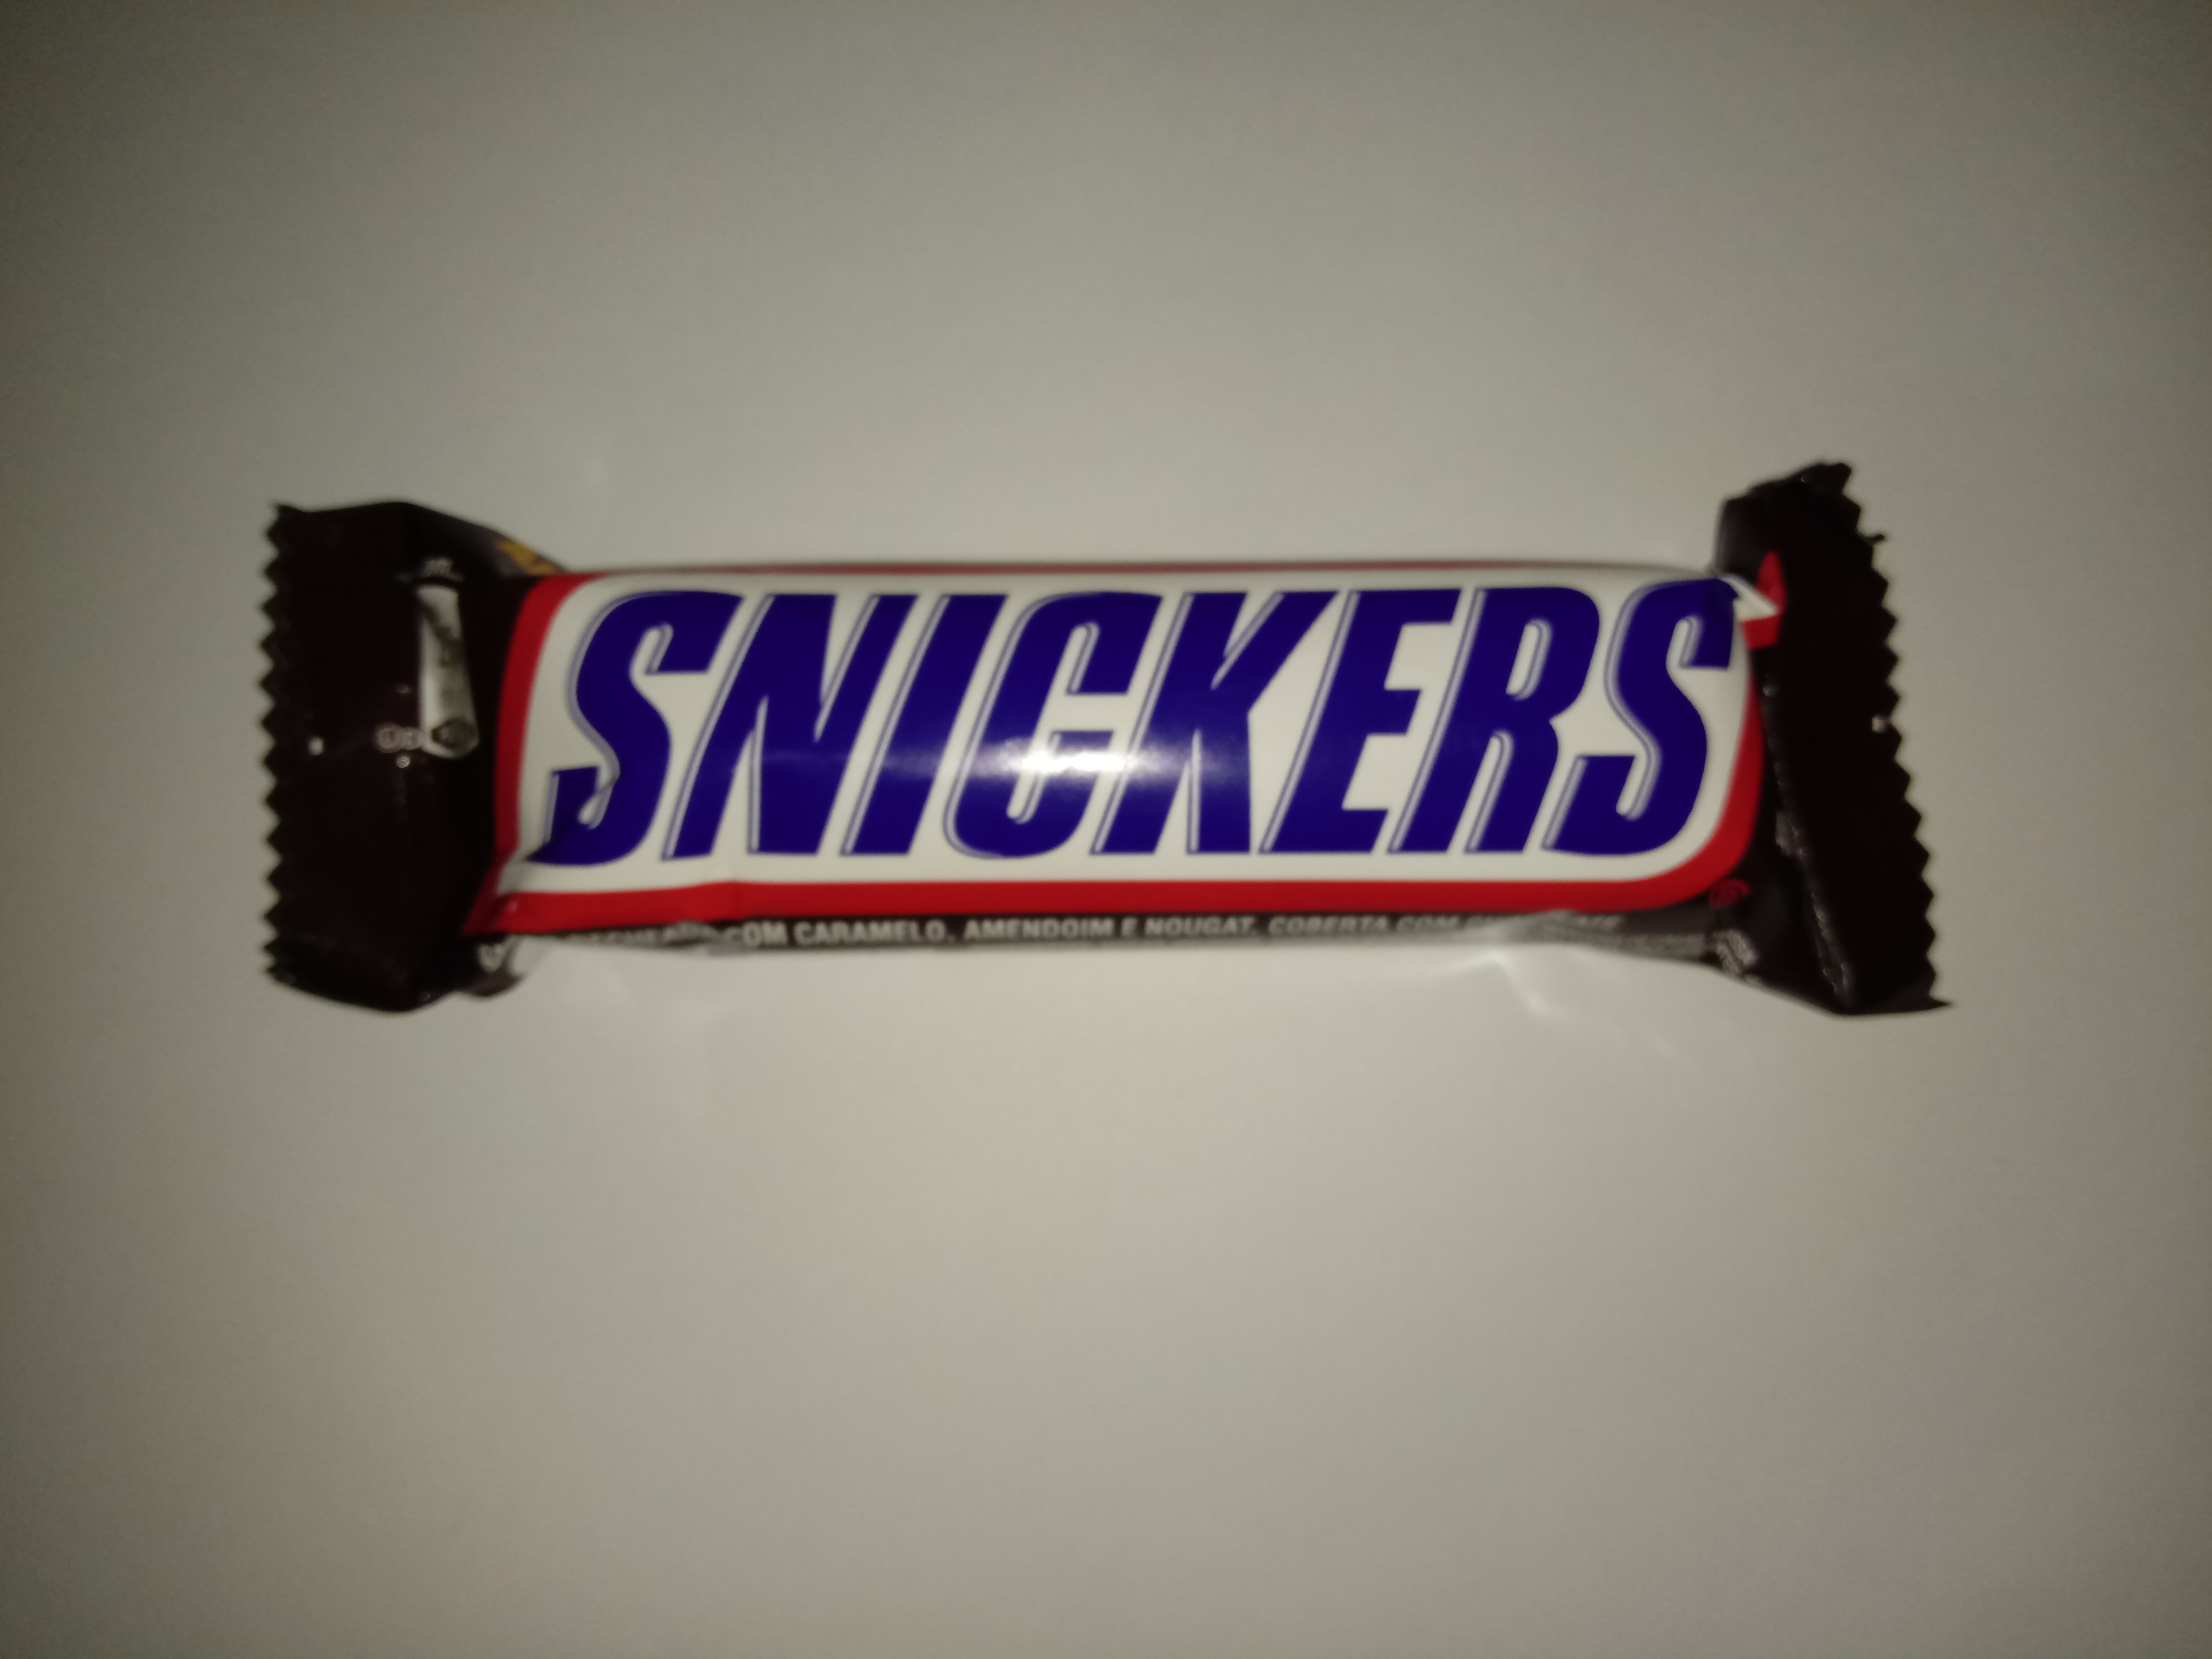snickers: (237, 432, 1968, 1033)
